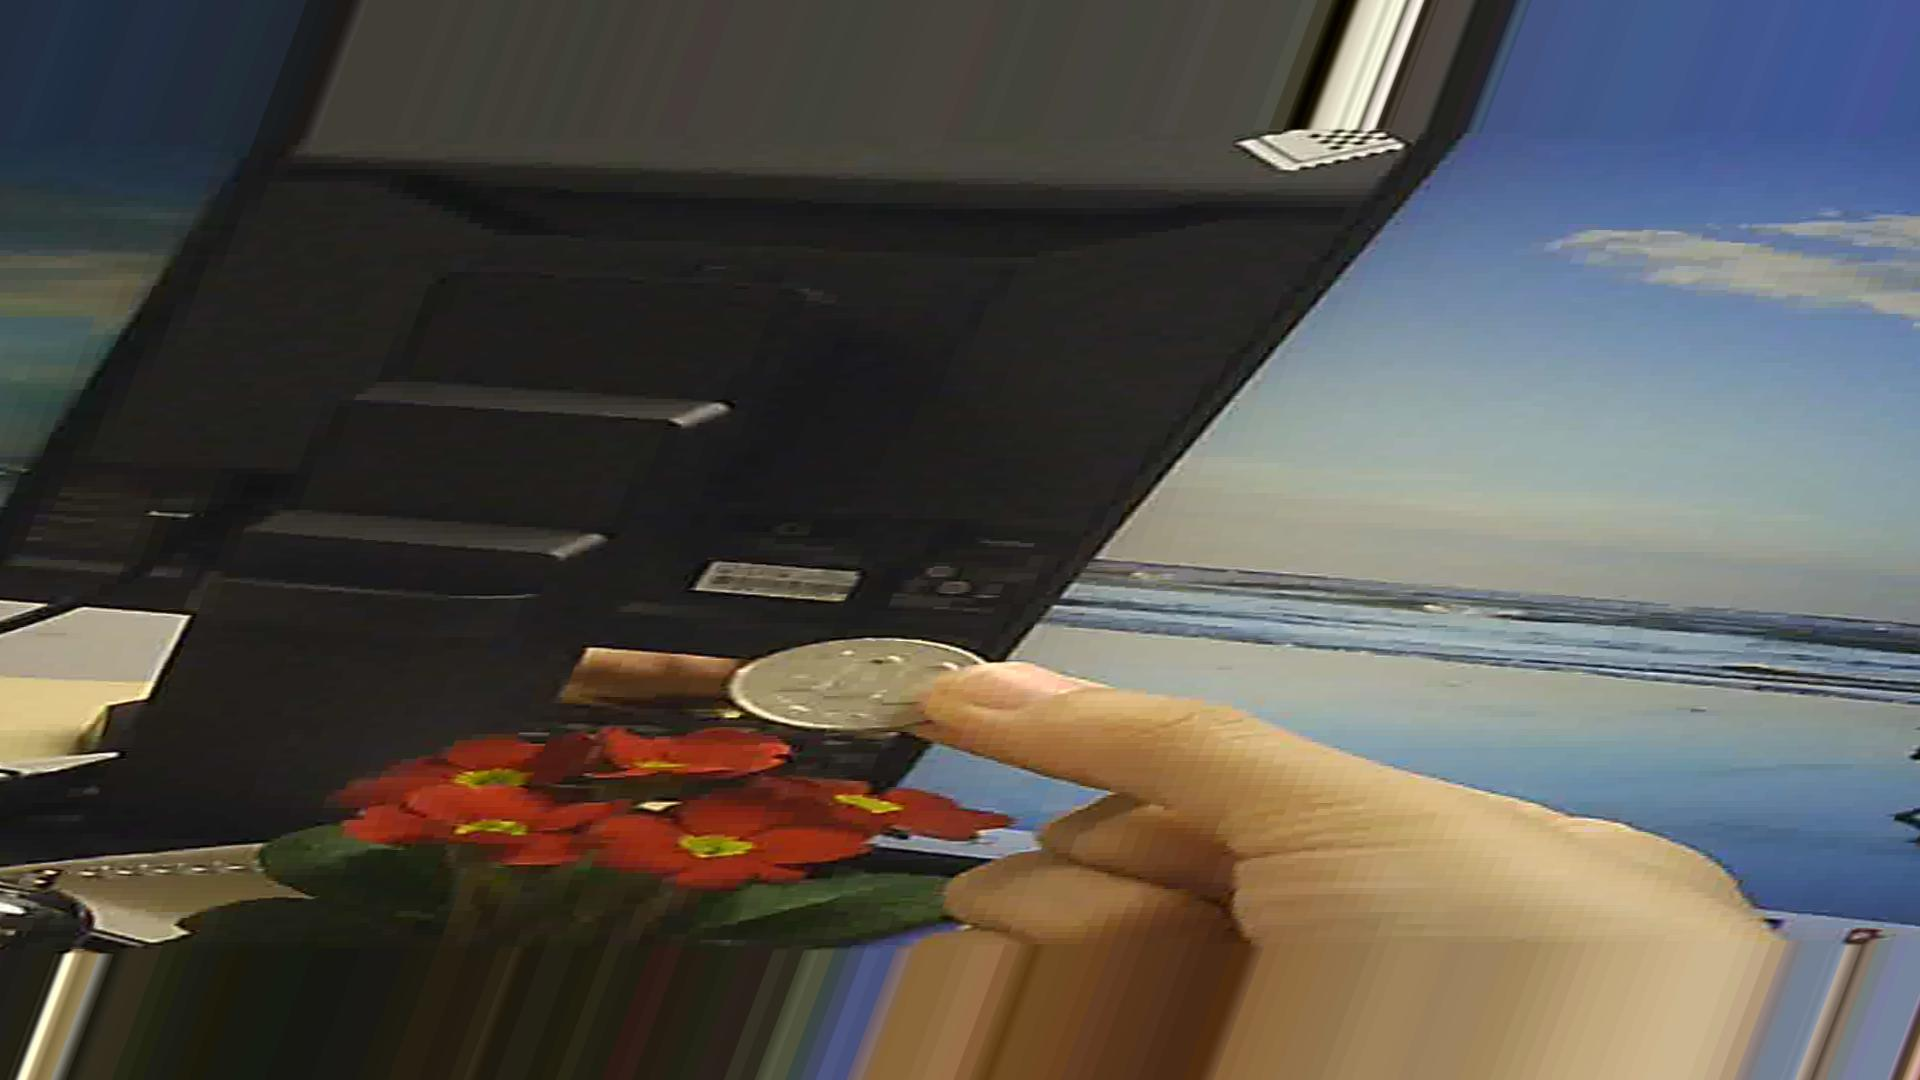100 Yen: (731, 621, 976, 742)
